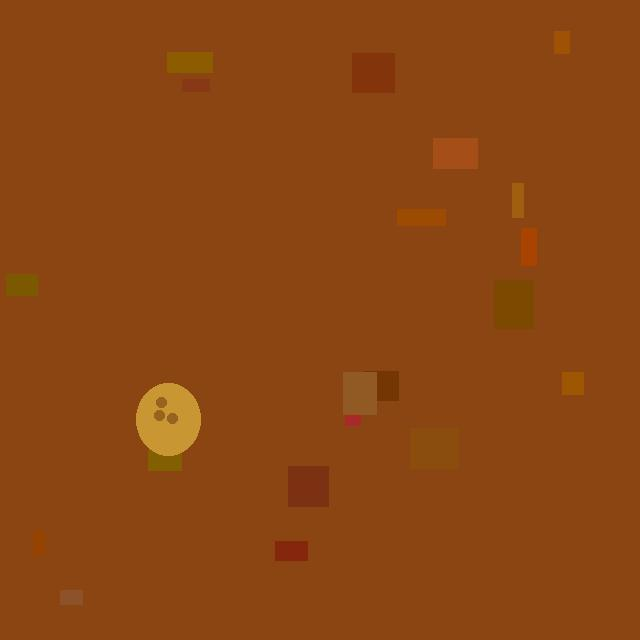damaged_crop: (136, 383, 200, 455)
